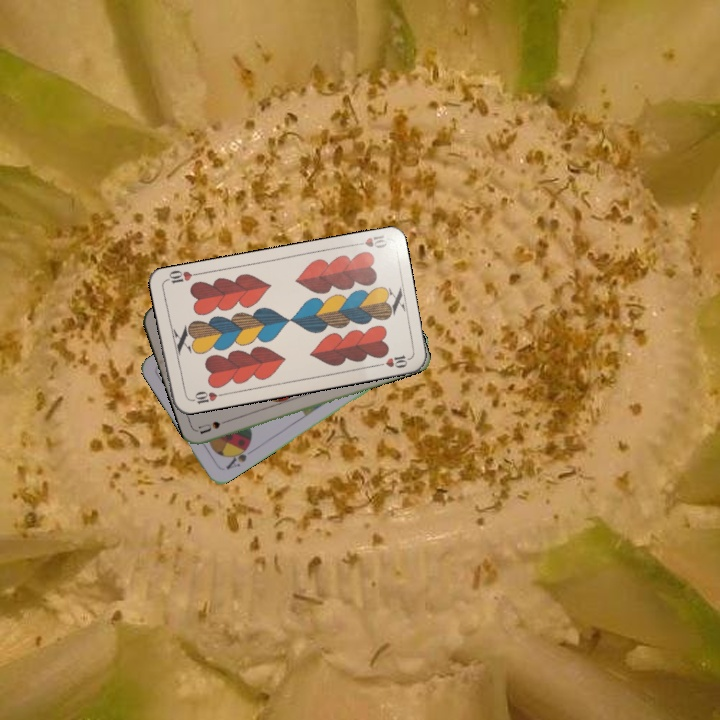H10: (185, 387, 226, 407), (349, 231, 390, 251)
SA: (221, 441, 252, 472)
SU: (195, 414, 235, 437)
